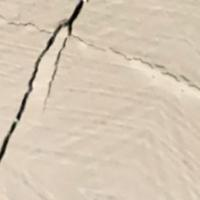crack: (1, 1, 94, 163)
